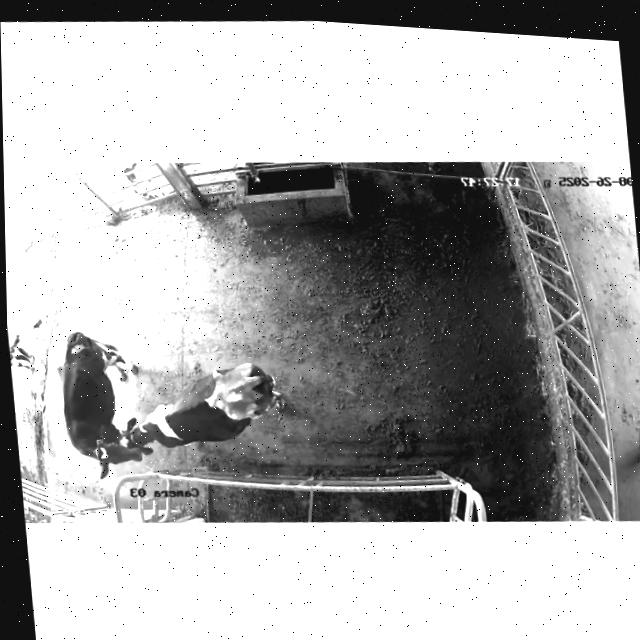stand: (119, 362, 280, 454), (57, 331, 153, 478)
